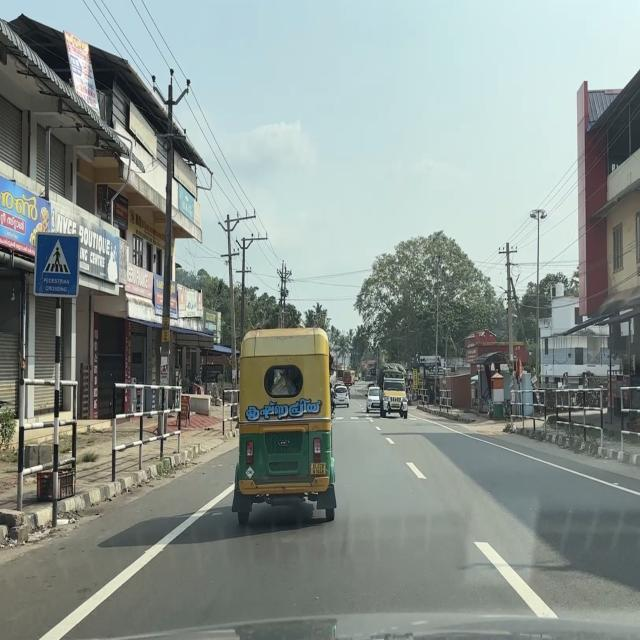PEDESTRIAN_CROSSING: (33, 231, 81, 298)
